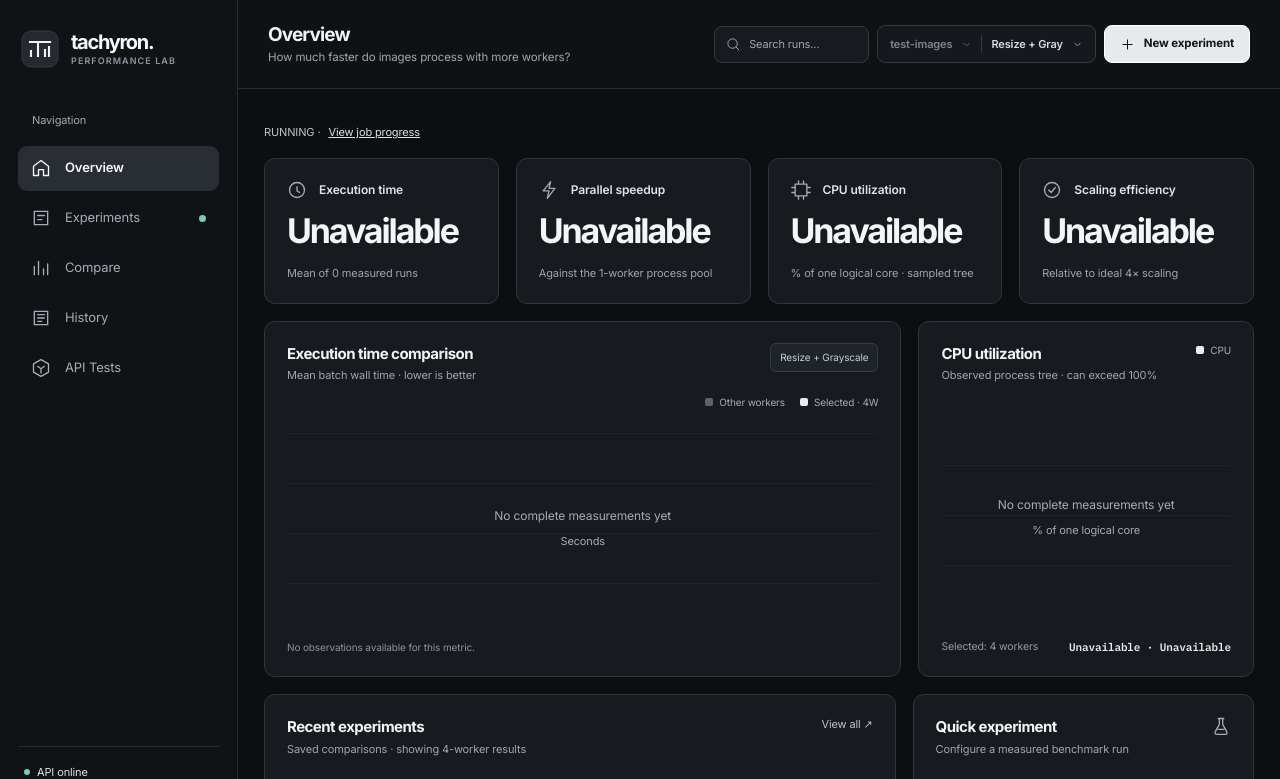
dashboard behavior › recovers an active job without restarting polling on navigation and preserves cancellation announcements
This screenshot has width=1280, height=779.
Expected: the link "View job progress" is shown, [328,124,420,140]
Click the link "Experiments". click: (118, 218)
box: [31,208,206,228]
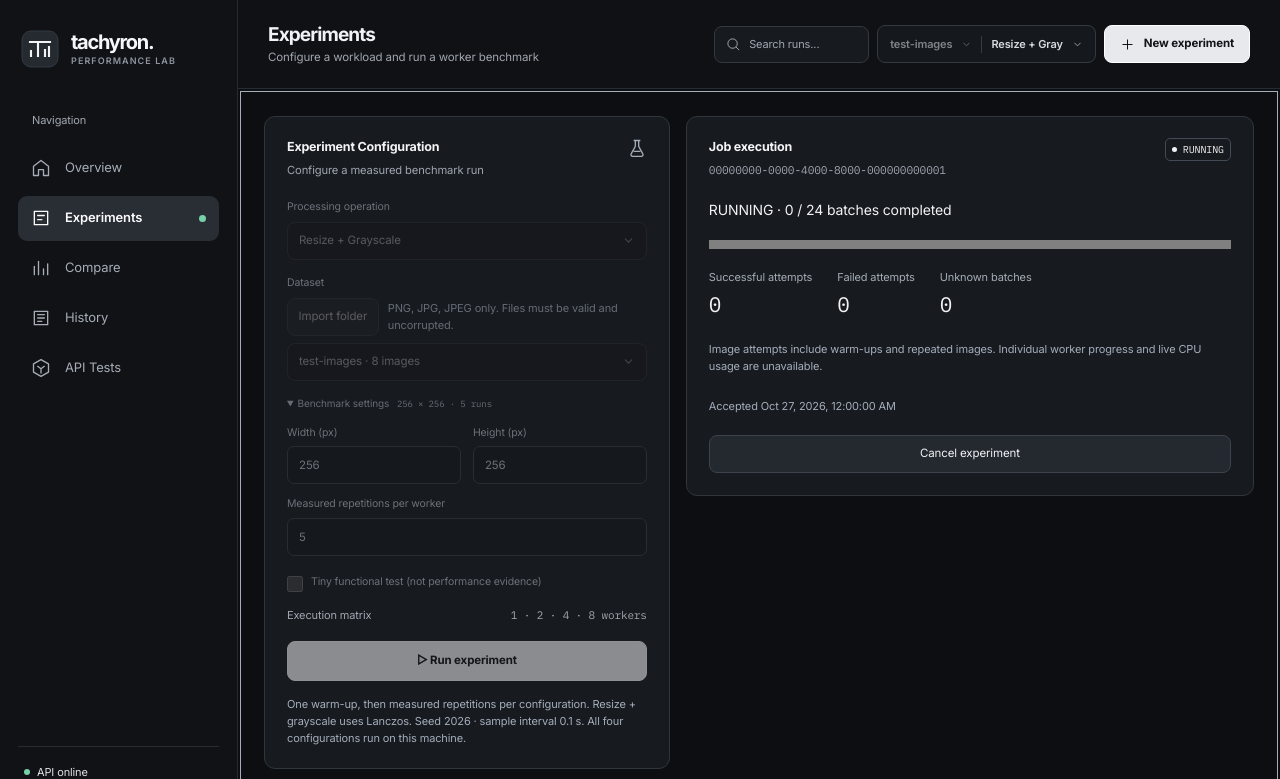
Click the button "Cancel experiment". click: (970, 454)
box: [709,435,1231,473]
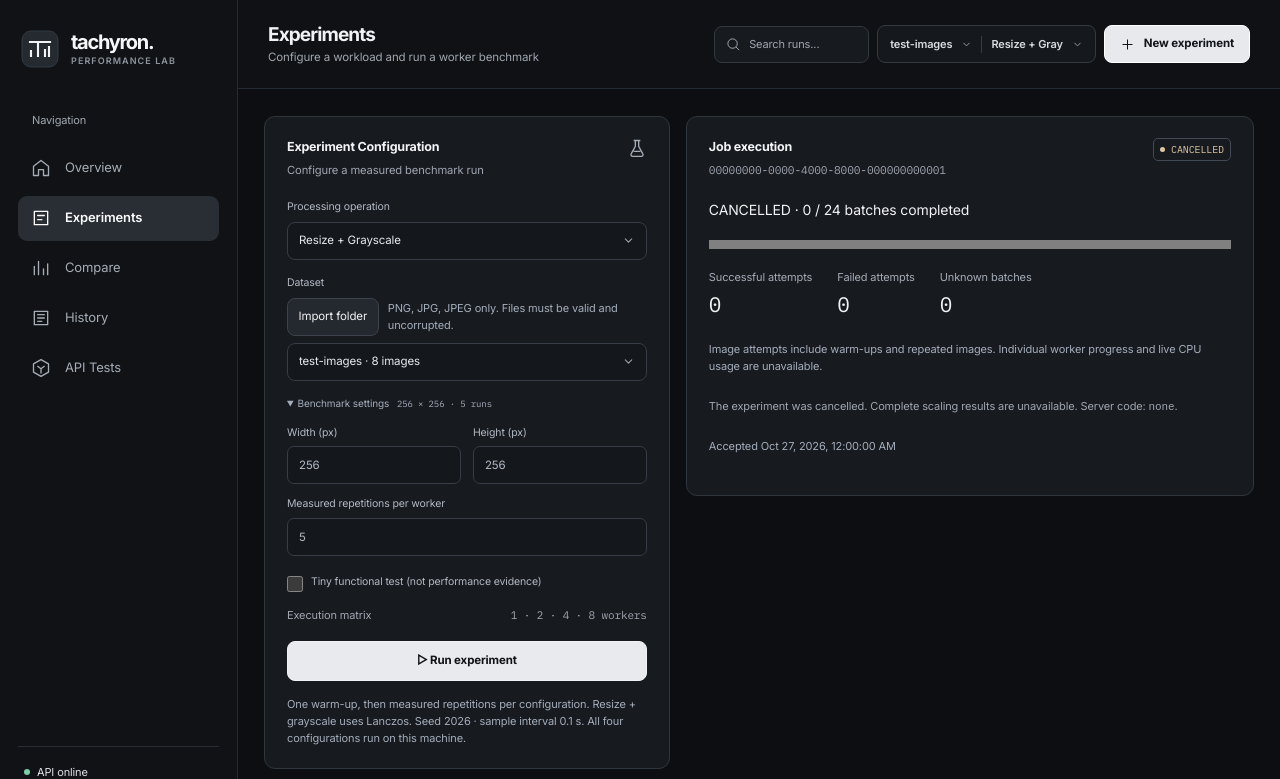
Expected: the link "View job progress" is not shown
Expected: the text "CANCELLED · 0 / 24 batches completed" is shown, [709,201,969,218]
